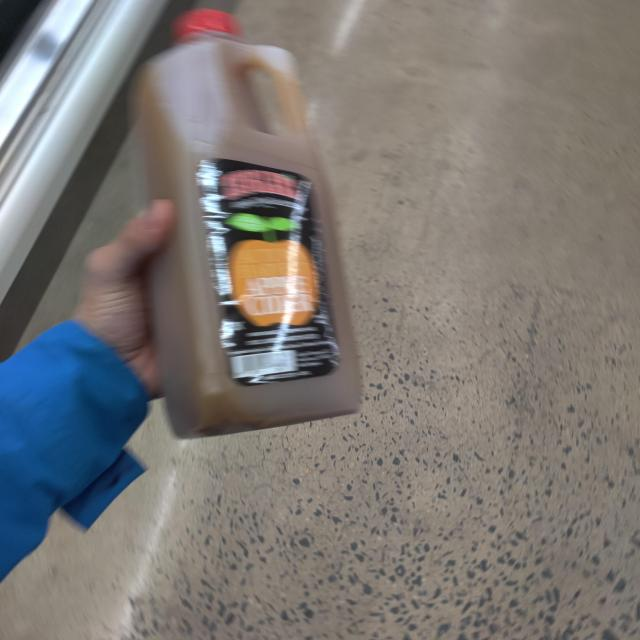Juice: (139, 9, 366, 435)
